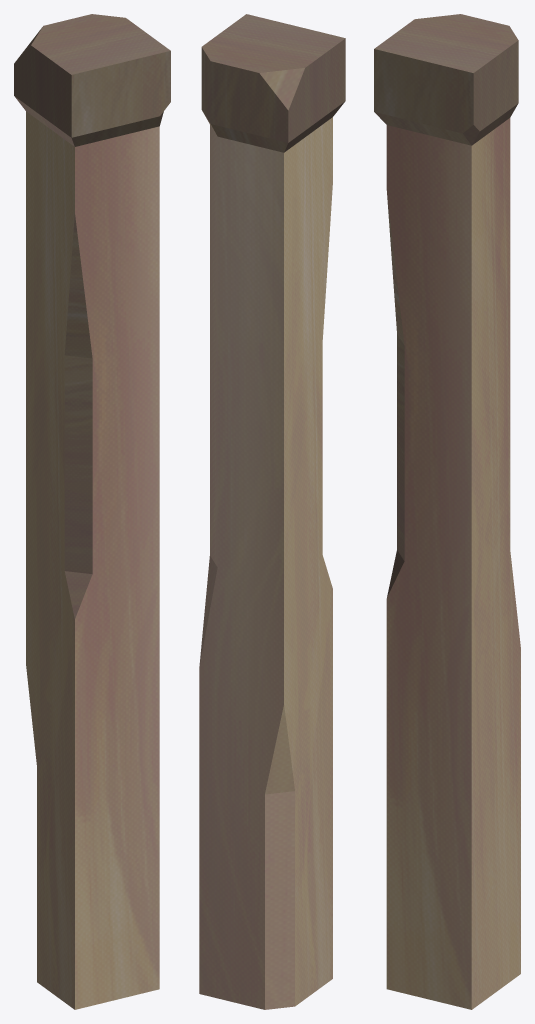
The model's file is fence postonly.fbx.
3 views of the same model, side by side, from view 1: azimuth 30°, elevation 25°; view 2: azimuth 150°, elevation 25°; view 3: azimuth 330°, elevation 25° (orthographic).
Parts seen in each view (by area): view 1: Cube.002; view 2: Cube.002; view 3: Cube.002.
Part boxes in pixels (bbox=[...]): Cube.002: bbox=[14, 14, 170, 1009]; Cube.002: bbox=[199, 14, 345, 1009]; Cube.002: bbox=[374, 14, 520, 1009].
Size of the model in its own units: 103 by 931 by 103.
